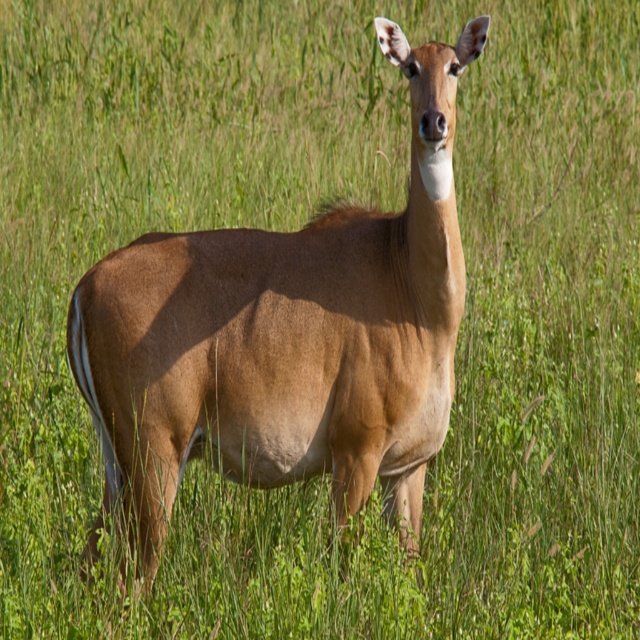Deer: (66, 15, 490, 607)
